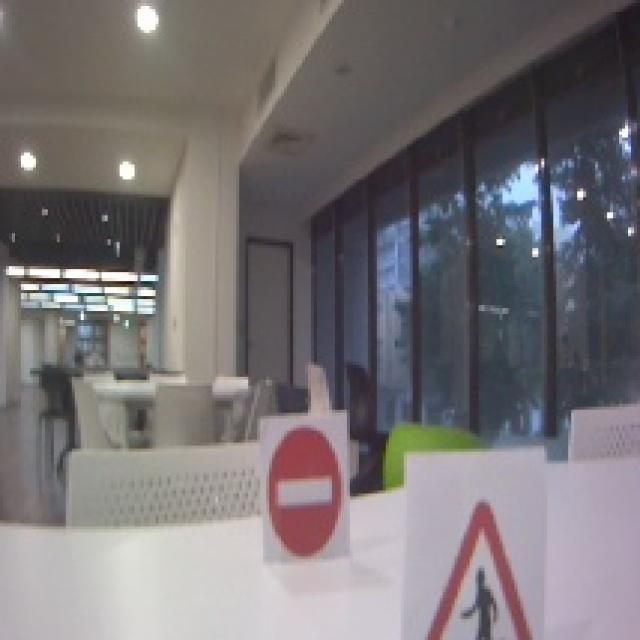DoNotEnterSign: (266, 427, 344, 558)
